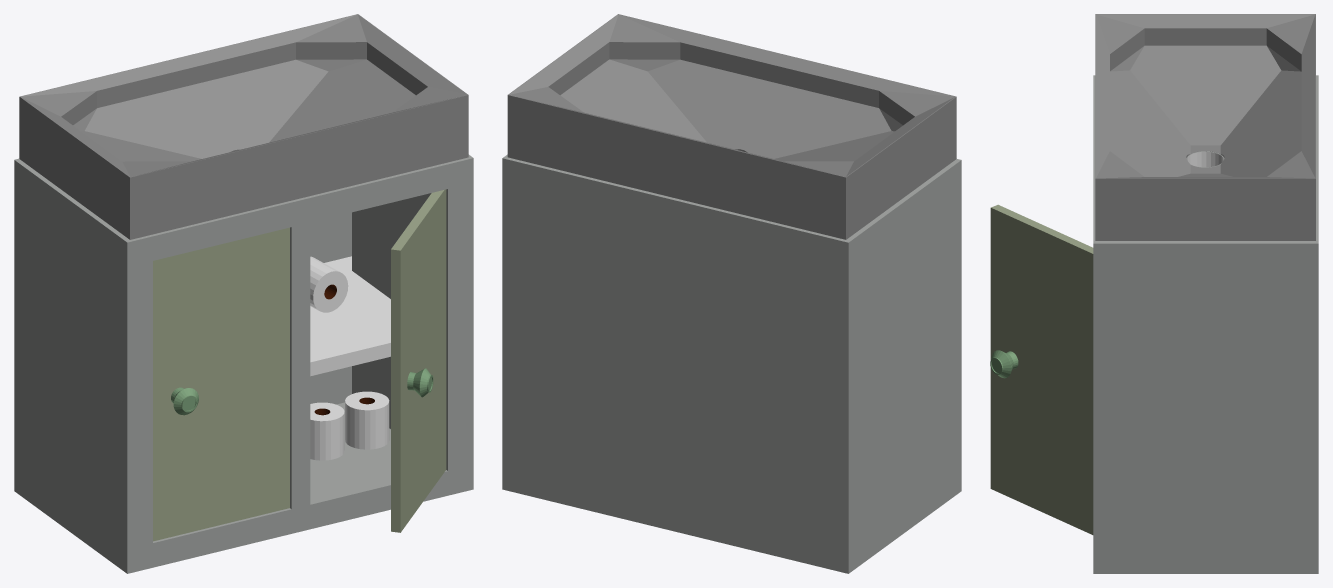
Rendered from Pia.fbx.
3 renders of one model, left to right at view 1: azimuth 30°, elevation 25°; view 2: azimuth 150°, elevation 25°; view 3: azimuth 270°, elevation 25°, orthographic.
Parts seen in each view (by area): view 1: Cylinder.022; view 2: Cylinder.022; view 3: Cylinder.022.
Part boxes in pixels (<box>): Cylinder.022: <box>14,14,473,573</box>; Cylinder.022: <box>502,14,961,573</box>; Cylinder.022: <box>990,14,1318,573</box>.
Size of the model in its own units: 353 by 385 by 291.
